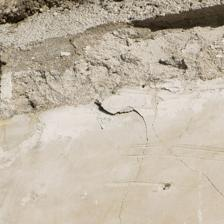Crack: (95, 100, 150, 146)
